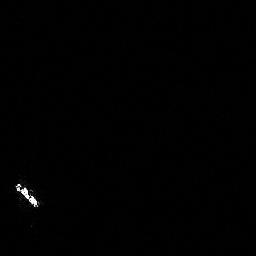ship: (14, 180, 41, 210)
